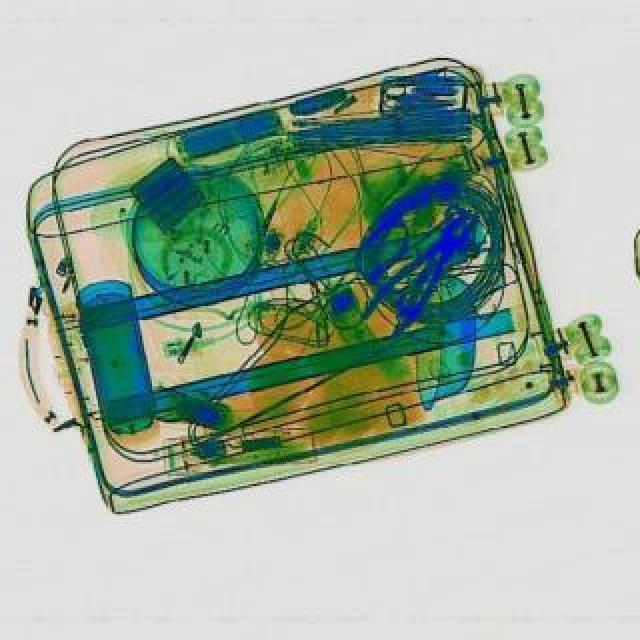wrench: (354, 196, 494, 342)
